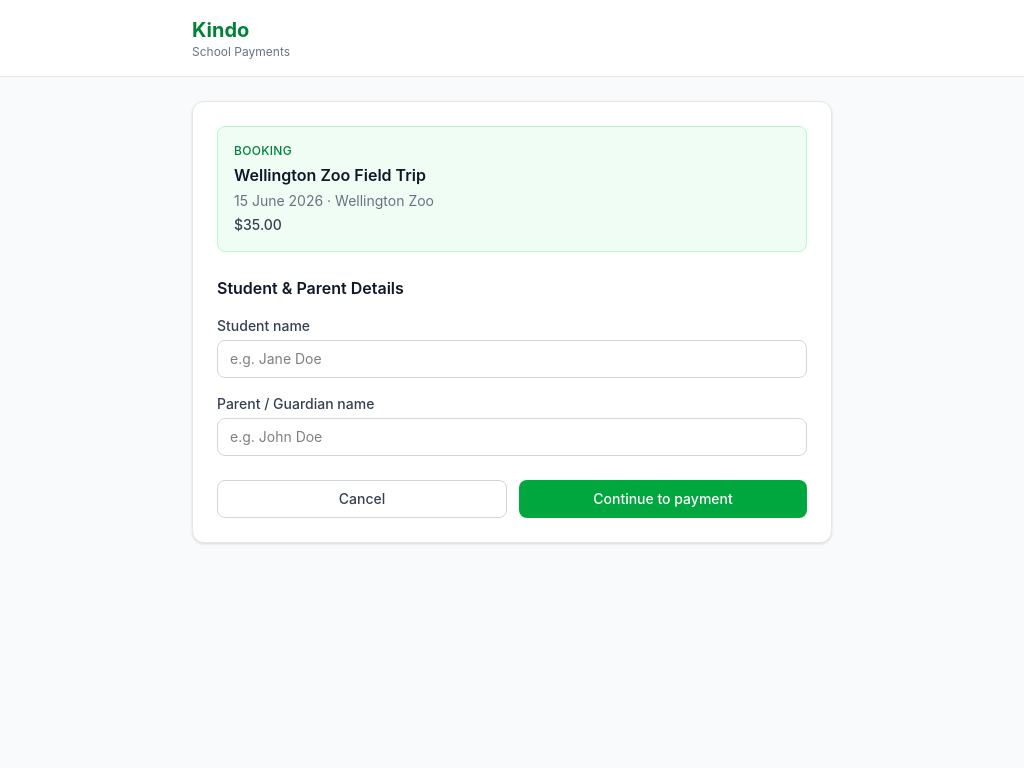
Test: RegistrationForm › shows validation errors when submitted empty
Click the button "Continue to payment": click(663, 499) [519,480,807,518]
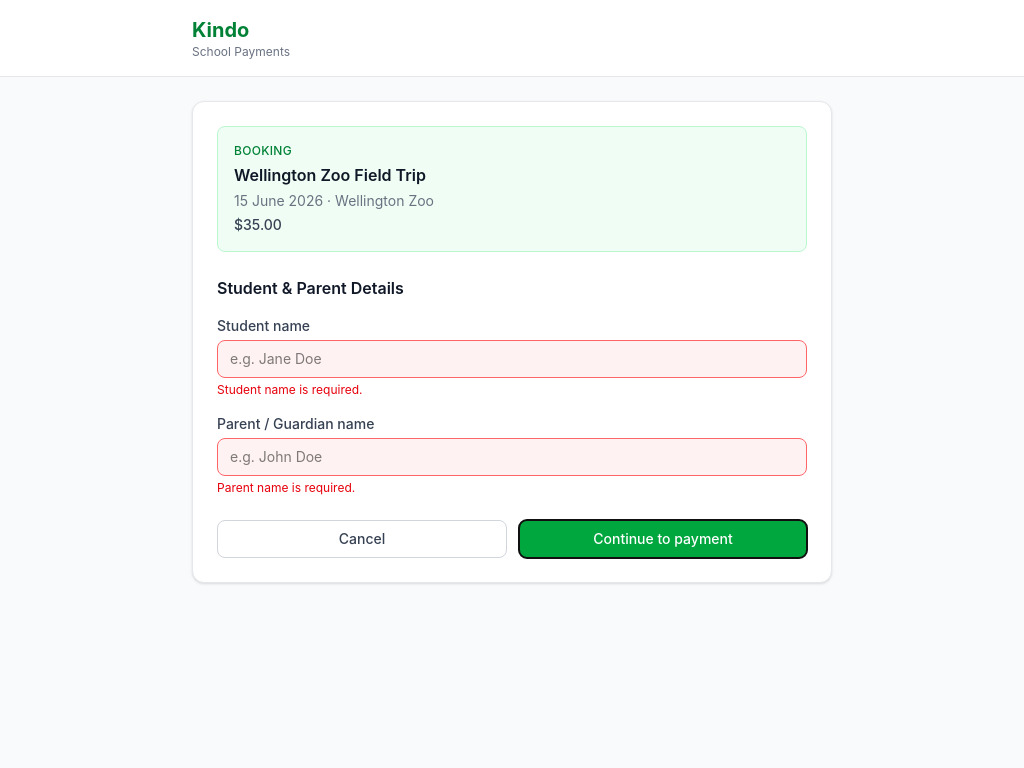
Expected: the text "Student name is required." is shown, [217,382,363,397]
Expected: the text "Parent name is required." is shown, [217,480,355,495]
